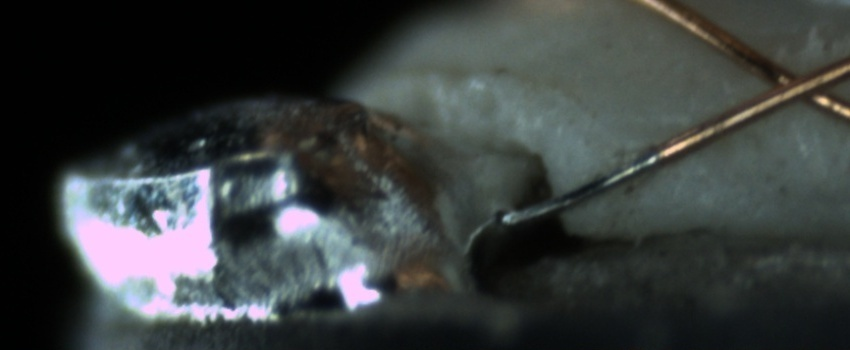CL: (742, 48, 849, 118)
DL: (583, 102, 706, 156)
TS: (498, 149, 663, 230)
TTCW: (493, 123, 710, 229)
